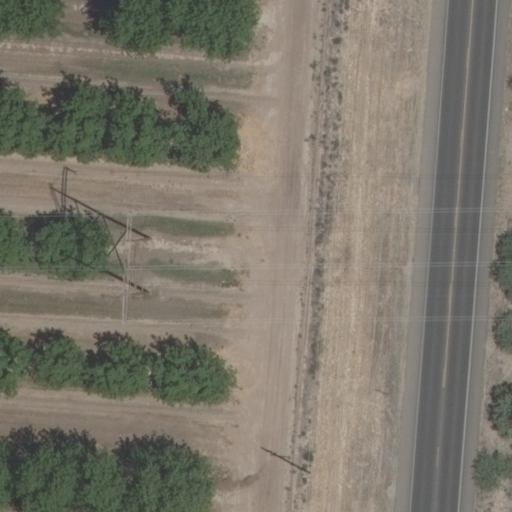DT: (262, 447, 313, 476)
TT: (44, 180, 147, 293)
